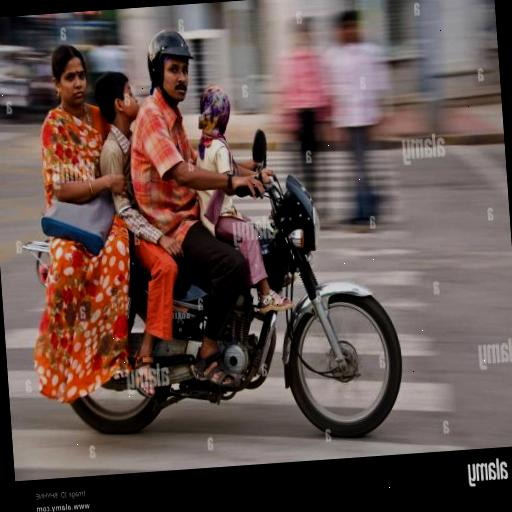helmet: (132, 26, 205, 134)
triple riding: (7, 0, 426, 451)
